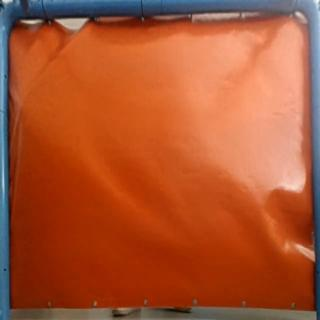Hit-hRxx: (15, 102, 25, 116)
